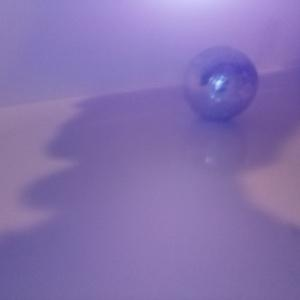alive_ball: (183, 46, 257, 121)
